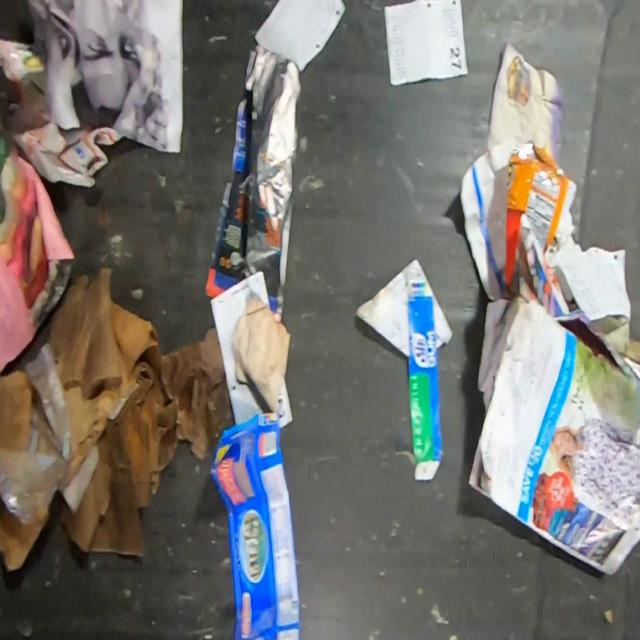cardboard: (0, 266, 235, 570), (210, 412, 300, 639), (230, 291, 292, 415), (406, 278, 443, 481)
soft_plastic: (504, 140, 574, 288)
